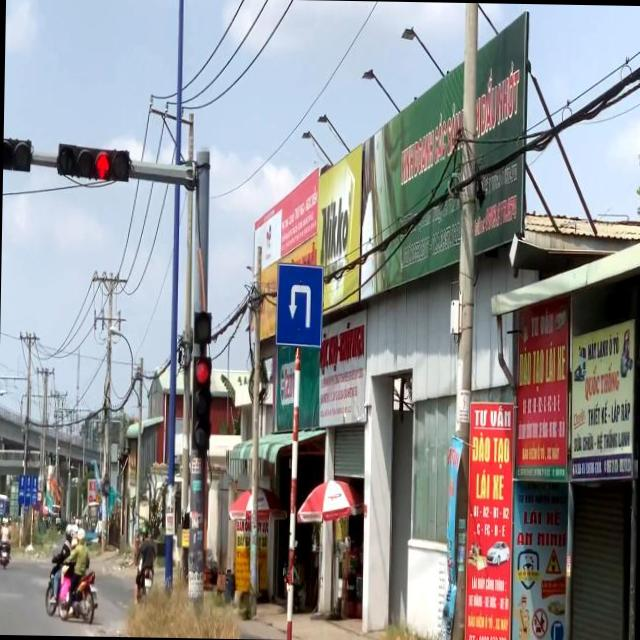I-409: (276, 263, 322, 344)
